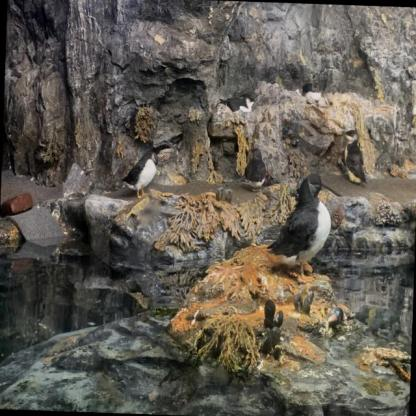puffin: (264, 170, 335, 284), (119, 148, 159, 200), (341, 128, 369, 185), (242, 146, 268, 193), (219, 91, 254, 114), (324, 302, 347, 332), (301, 82, 322, 101)
